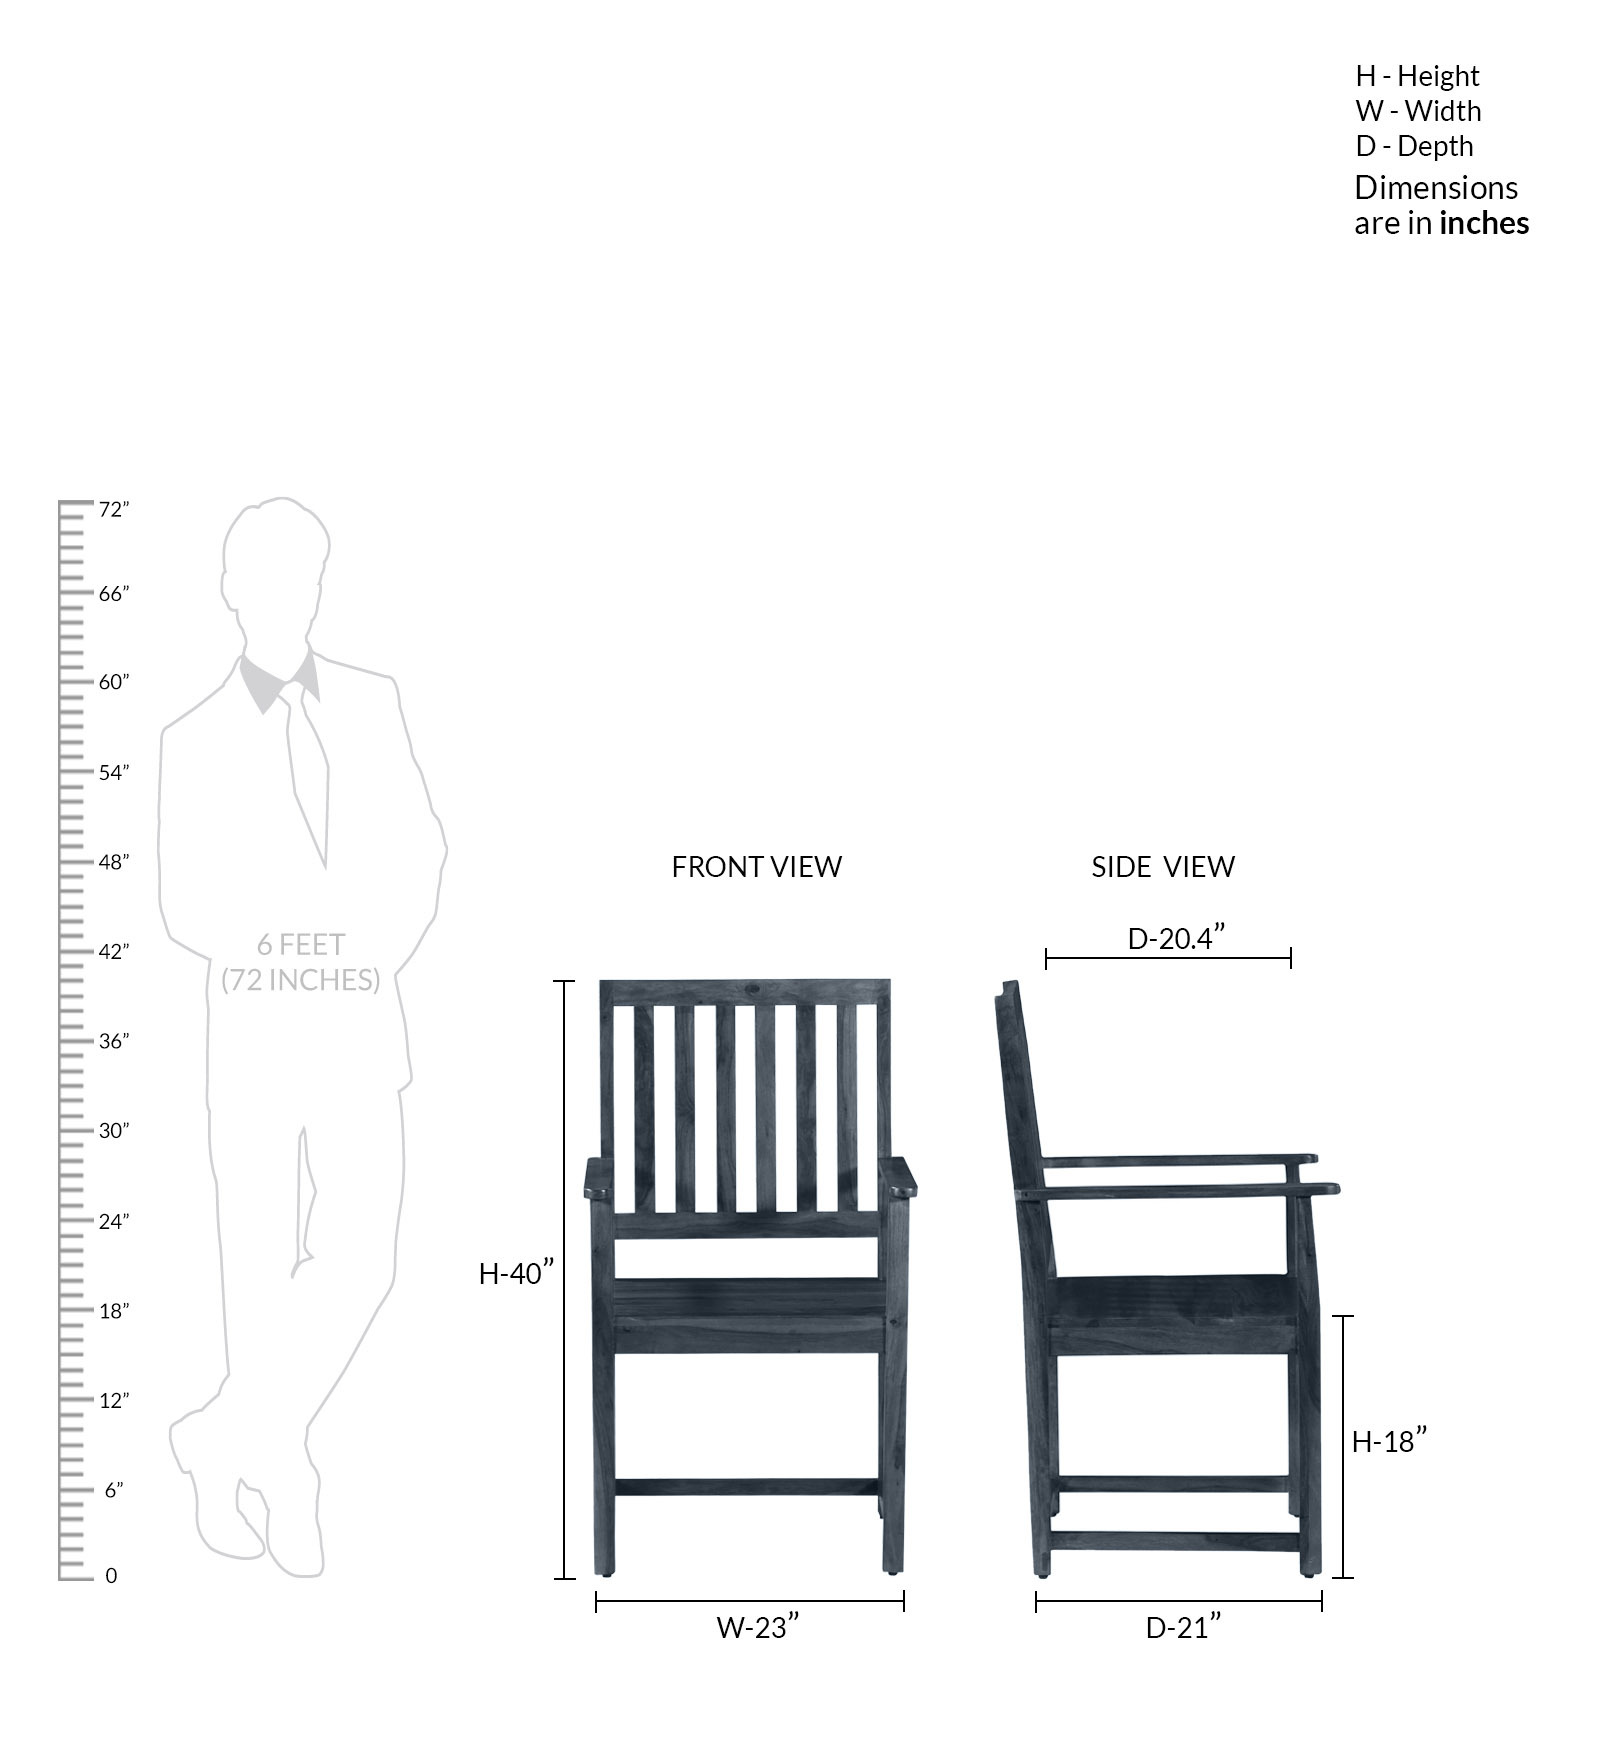Abbey Arm Chair in Honey Oak Finish by Woodsworth: (573, 944, 923, 1599), (969, 970, 1333, 1590)
